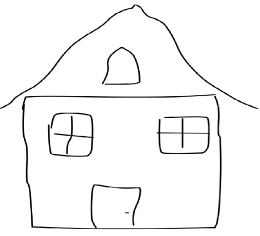big_house: (0, 0, 258, 235)
closed_window: (42, 110, 103, 162), (152, 111, 213, 161)
door: (84, 180, 149, 233)
open_window: (90, 45, 151, 89)
roof: (5, 0, 246, 102)
wall: (16, 90, 228, 233)
